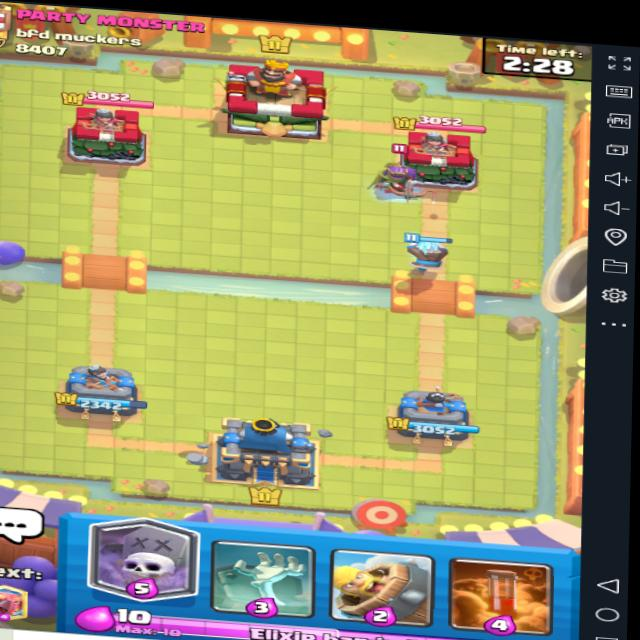Queen: (361, 142, 443, 214)
